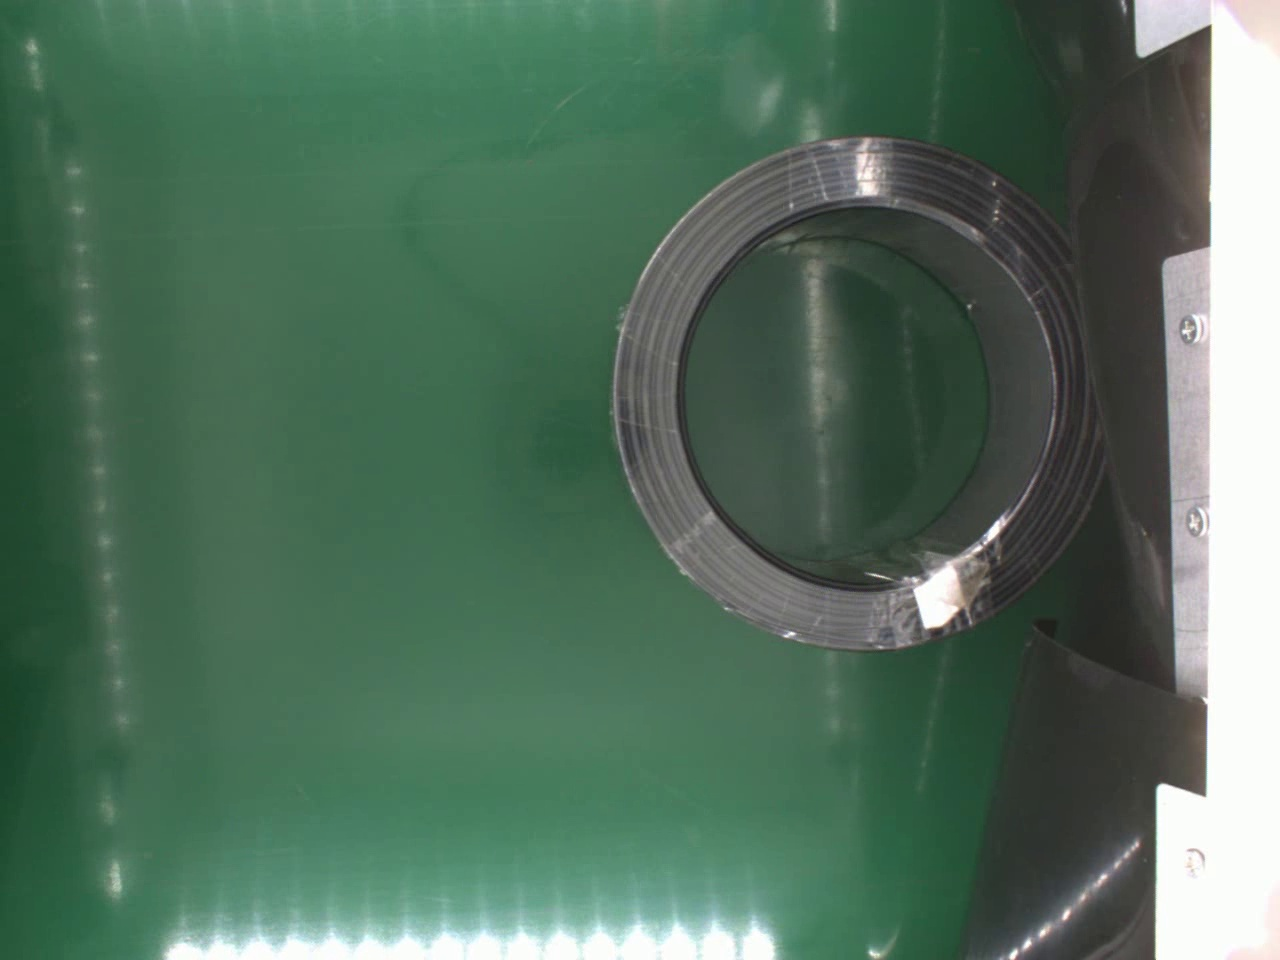black: (606, 127, 1105, 655)
